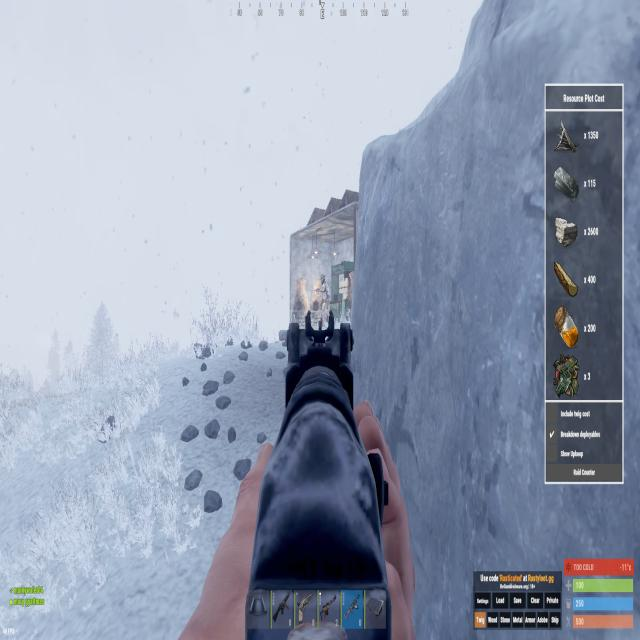Player: (319, 273, 332, 329)
